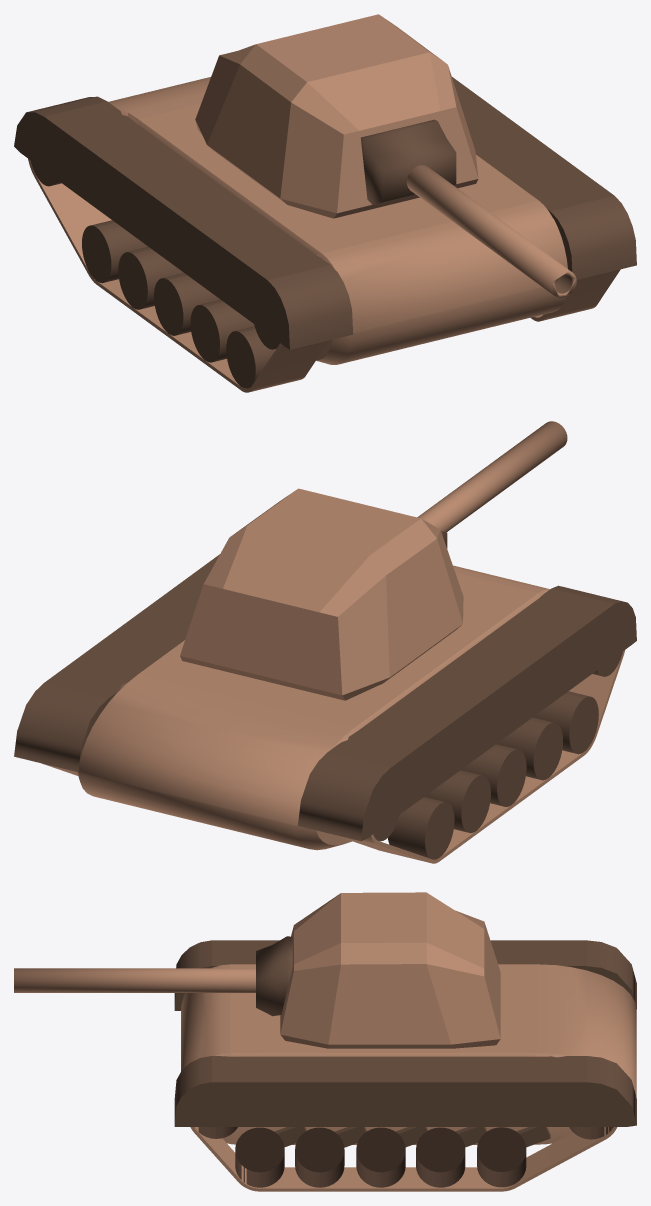
File: Tank_Enemy_02.glb
3 renders of one model, top to bottom at view 1: azimuth 30°, elevation 25°; view 2: azimuth 150°, elevation 25°; view 3: azimuth 270°, elevation 25°, orthographic. The views are drawn at different scales.
Parts seen in each view (by area): view 1: Tank_Body_Down, Tank_Body_Up; view 2: Tank_Body_Down, Tank_Body_Up; view 3: Tank_Body_Down, Tank_Body_Up.
Part boxes in pixels (bbox=[...]): Tank_Body_Down: bbox=[14, 77, 636, 392]; Tank_Body_Up: bbox=[195, 14, 576, 298]; Tank_Body_Down: bbox=[14, 554, 636, 863]; Tank_Body_Up: bbox=[180, 421, 567, 700]; Tank_Body_Down: bbox=[174, 940, 636, 1191]; Tank_Body_Up: bbox=[14, 892, 500, 1048].
Size of the model in its own units: 4.06 by 2.75 by 7.54.
